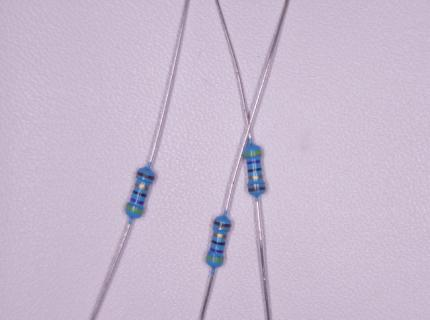Black band: (133, 190, 147, 198), (247, 167, 262, 173), (211, 240, 225, 246)
Brown band: (137, 171, 156, 180), (213, 220, 231, 227), (248, 187, 266, 192)
Gold band: (134, 183, 149, 191), (212, 232, 227, 239), (248, 175, 263, 180)
Violet band: (130, 197, 145, 205), (209, 247, 224, 254), (246, 160, 261, 165)
Yellow band: (125, 205, 144, 215), (206, 255, 224, 263), (244, 150, 262, 157)
